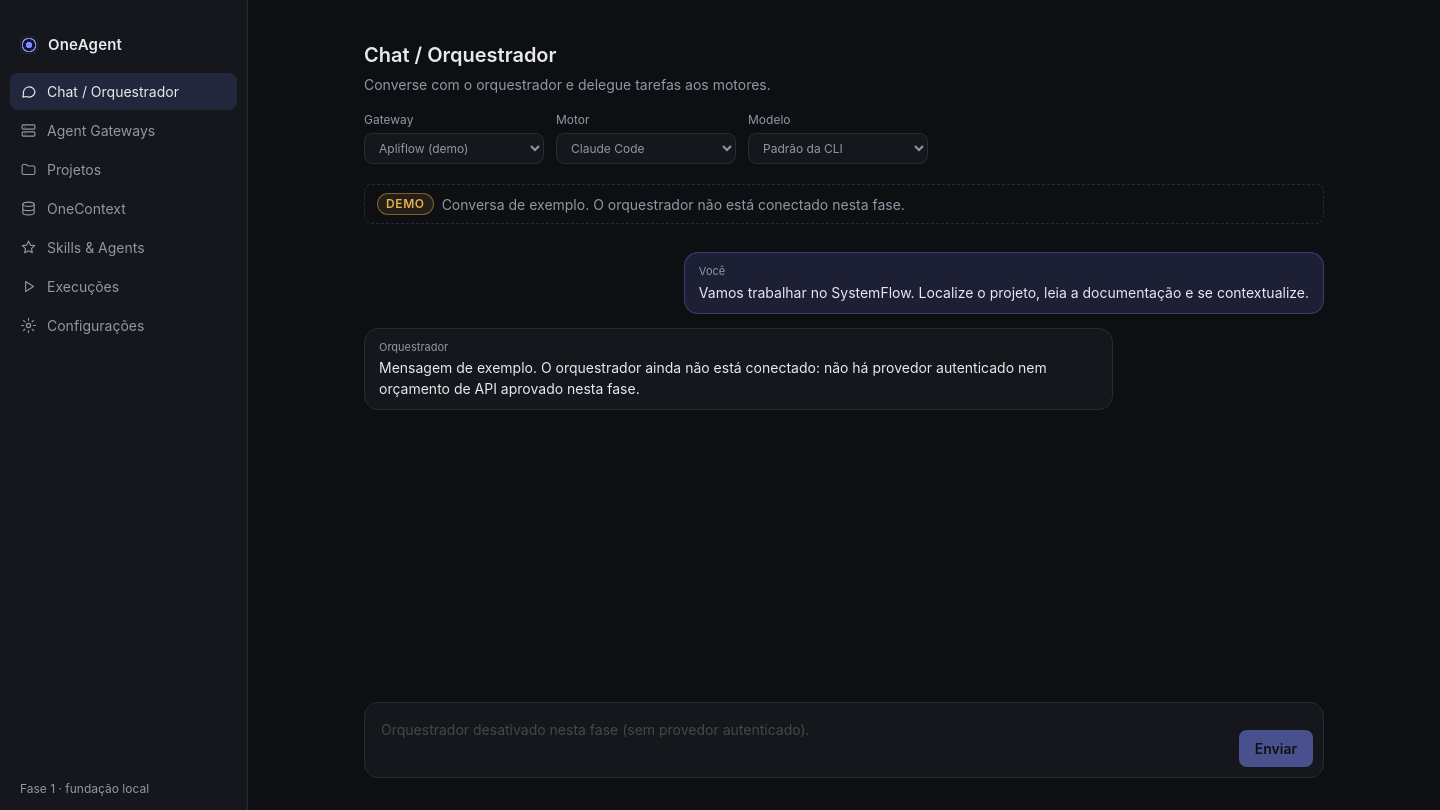
Test case: OneAgent shell › fora do app, informa que a detecção local não está disponível
Click the button "Agent Gateways". click: (124, 130)
box: [10, 112, 237, 148]
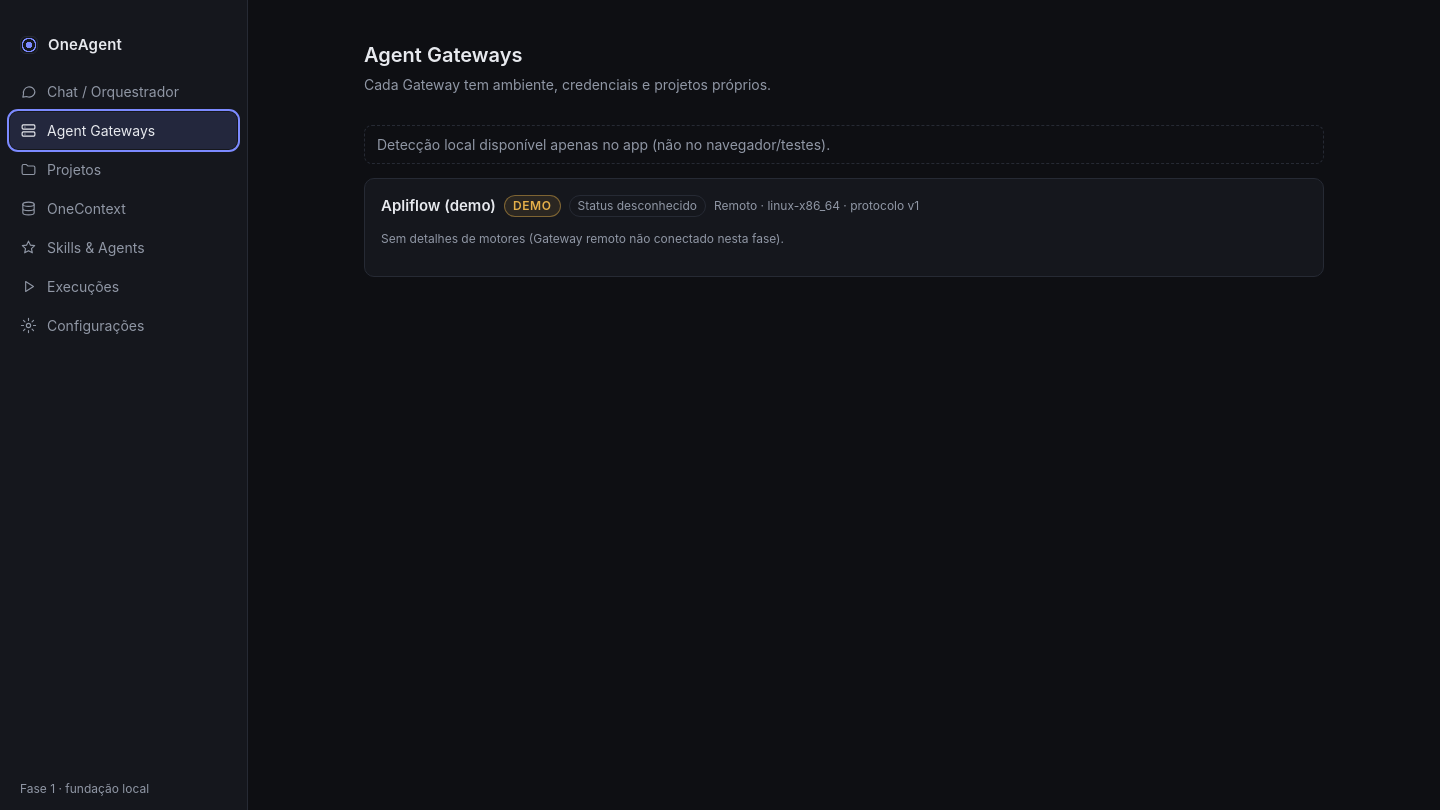
Result: the text "Detecção local disponível apenas no app" is shown at [377, 136, 830, 153]
Result: the heading "Apliflow (demo)" is shown at [381, 195, 496, 218]
